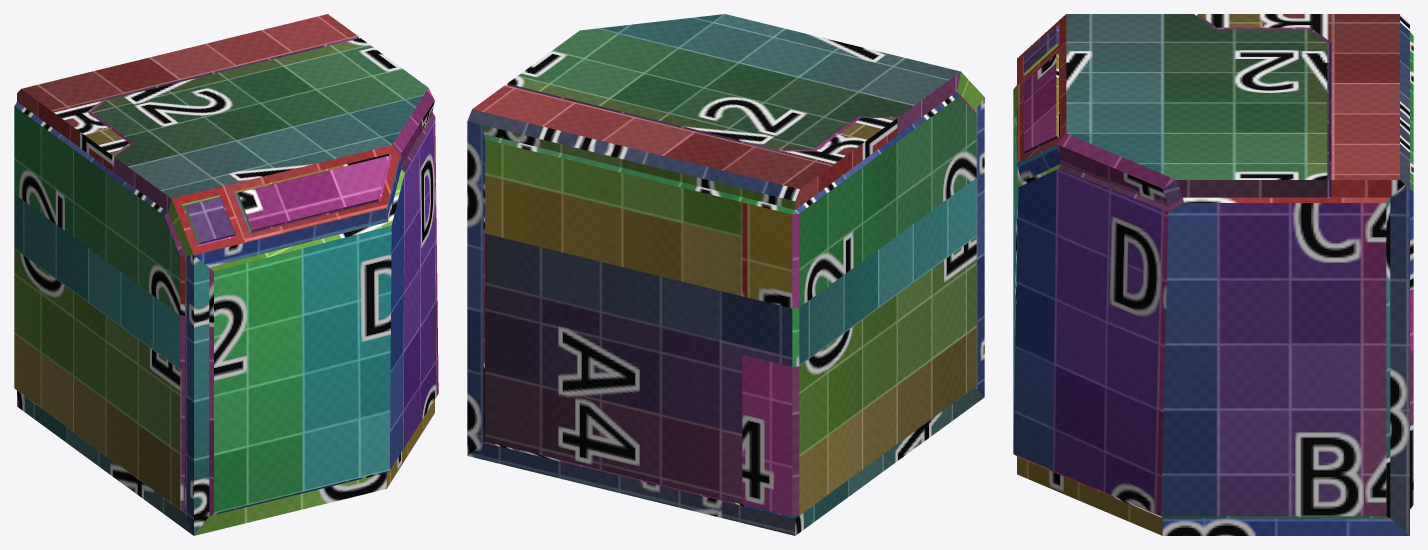
The picture shows the model from 3 angles, left to right: view 1: azimuth 30°, elevation 25°; view 2: azimuth 150°, elevation 25°; view 3: azimuth 270°, elevation 25°; orthographic projection. The views are drawn at different scales.
Parts seen in each view (by area): view 1: Cube; view 2: Cube; view 3: Cube.
Boxes of the visible parts, x1=… form: Cube: x1=14, y1=14, x2=438, y2=535; Cube: x1=467, y1=14, x2=984, y2=535; Cube: x1=1013, y1=14, x2=1413, y2=535.
Size of the model in its own units: 2.04 by 2 by 2.04.
1 material, 1 textured.
